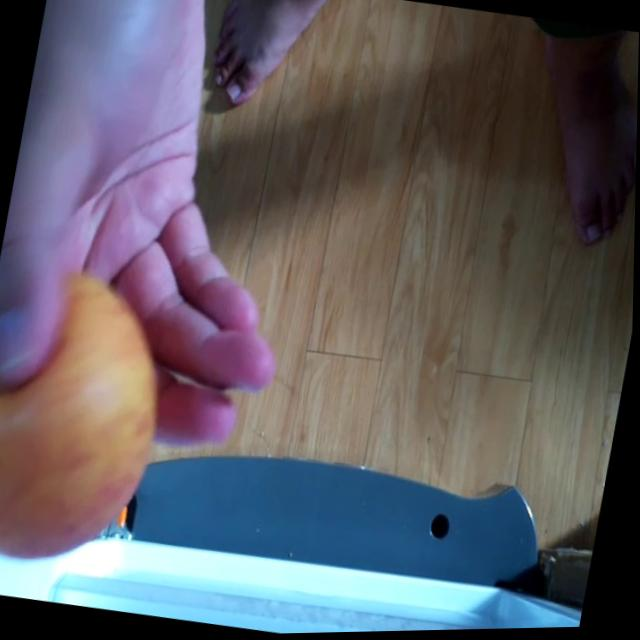apple: (0, 257, 188, 581)
